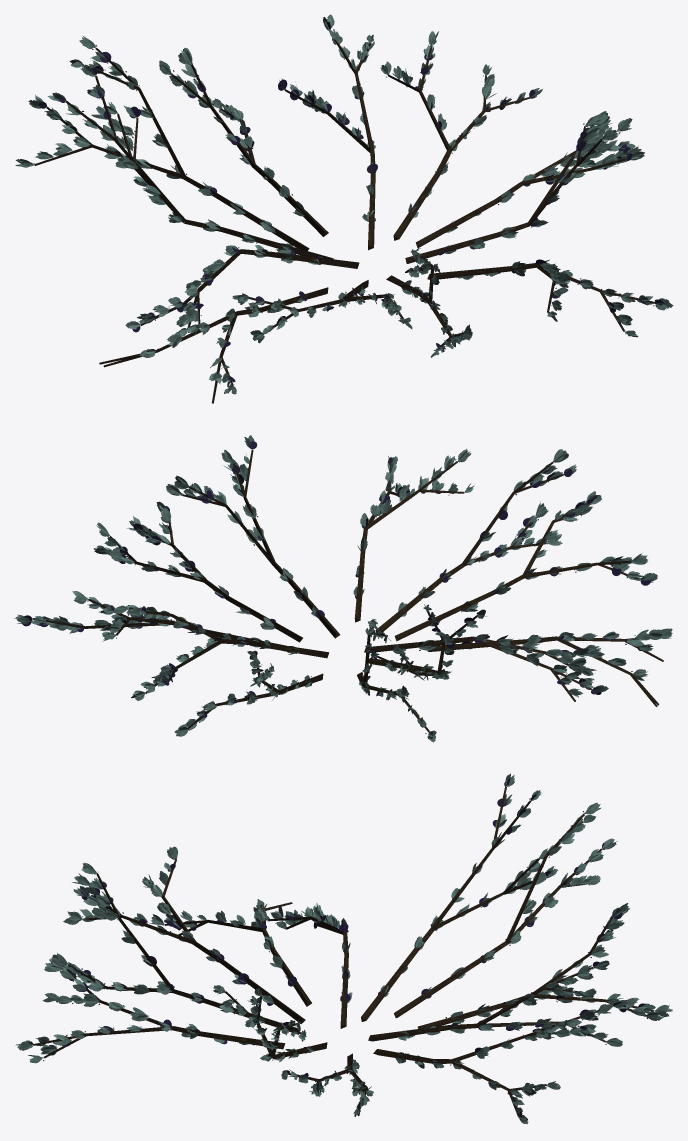
The model's file is bilberry_low_v02_LOD1.fbx.
3 renders of one model, top to bottom at view 1: azimuth 30°, elevation 25°; view 2: azimuth 150°, elevation 25°; view 3: azimuth 270°, elevation 25°, orthographic. The views are drawn at different scales.
Parts seen in each view (by area): view 1: bilberry_low_v02_LOD1; view 2: bilberry_low_v02_LOD1; view 3: bilberry_low_v02_LOD1.
Boxes of the visible parts, x1,y1,x2,y2 form: bilberry_low_v02_LOD1: (15,14,673,403); bilberry_low_v02_LOD1: (14,435,672,742); bilberry_low_v02_LOD1: (15,773,672,1124).
Size of the model in its own units: 113 by 35.21 by 119.
2 materials, 2 textured.
